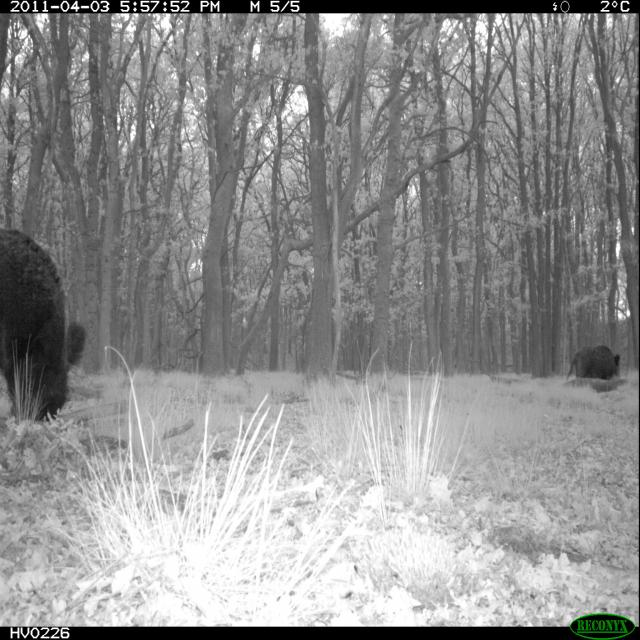boar: (0, 206, 99, 442), (554, 322, 631, 406)
